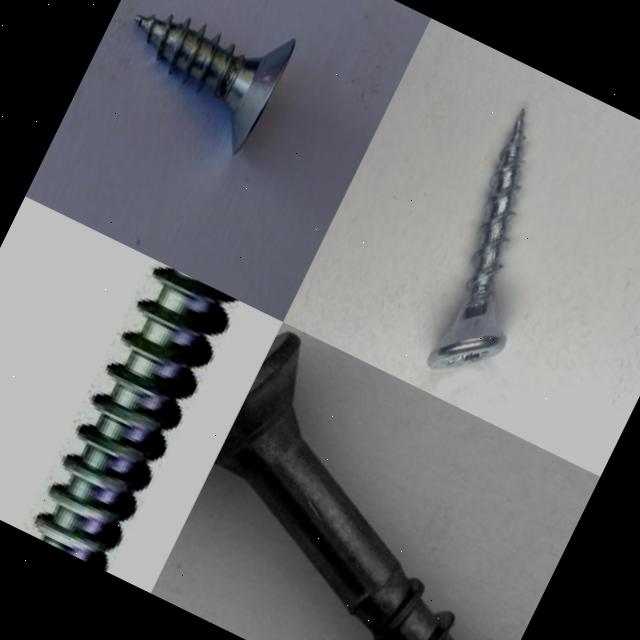Screw: (150, 322, 600, 640), (31, 263, 234, 571), (427, 107, 525, 368), (136, 14, 296, 154)
